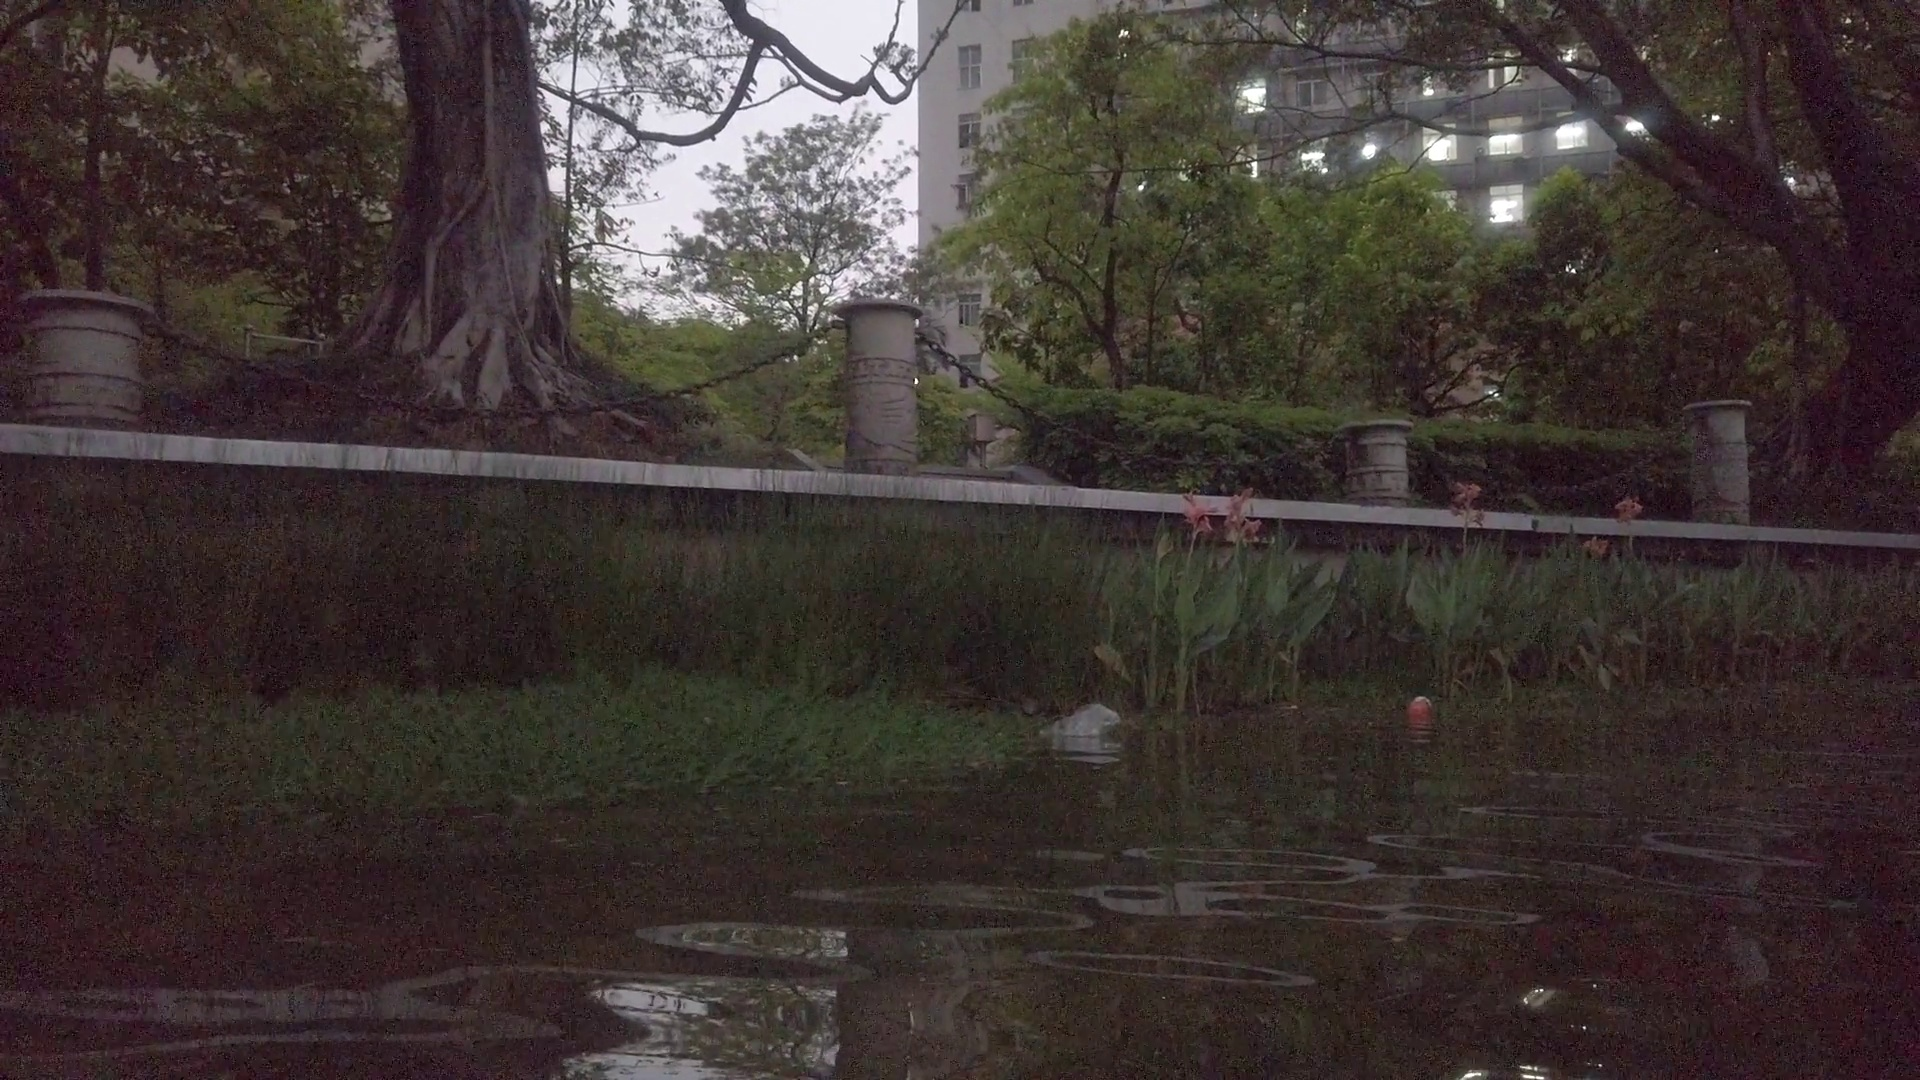bottle: (1400, 691, 1437, 723)
plastic: (1046, 702, 1124, 742)
